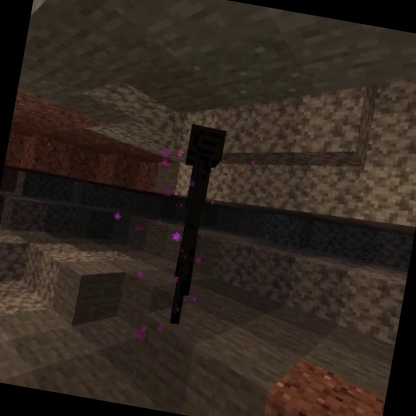enderman: (154, 122, 230, 332)
